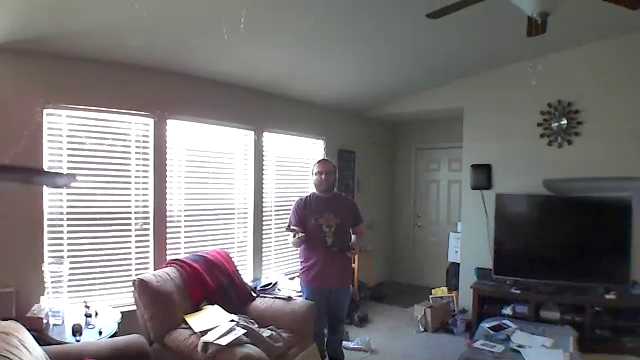land: (284, 225, 307, 243)
